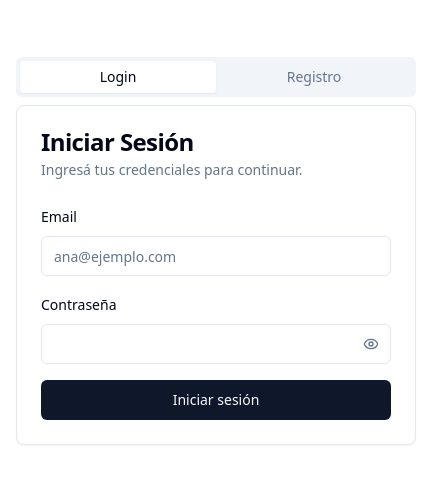
AuthPage [Componente] › Modo Login › Caso 12: debería mostrar error de la API si el usuario está inactivo (403)
This screenshot has width=433, height=503.
Type "inactive@example.com" into the field labelled "Email" at (216, 256), box [41,236,391,276]
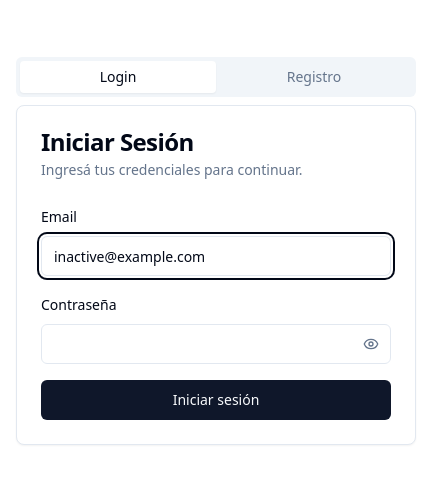
Type "Password123" into the password field labelled "Contraseña" at (216, 344), box [41,324,391,364]
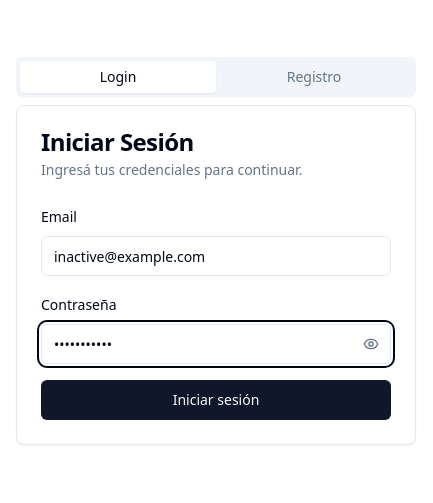
Click the button "Iniciar sesión" at (216, 400), box [41,380,391,420]
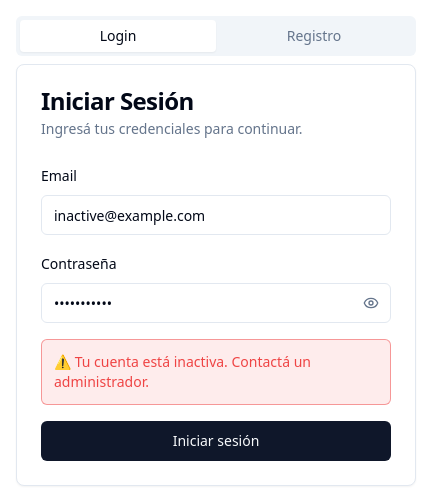
Check: the text "⚠ Tu cuenta está inactiva. Contactá un administrador." is shown, box [41,339,391,405]
